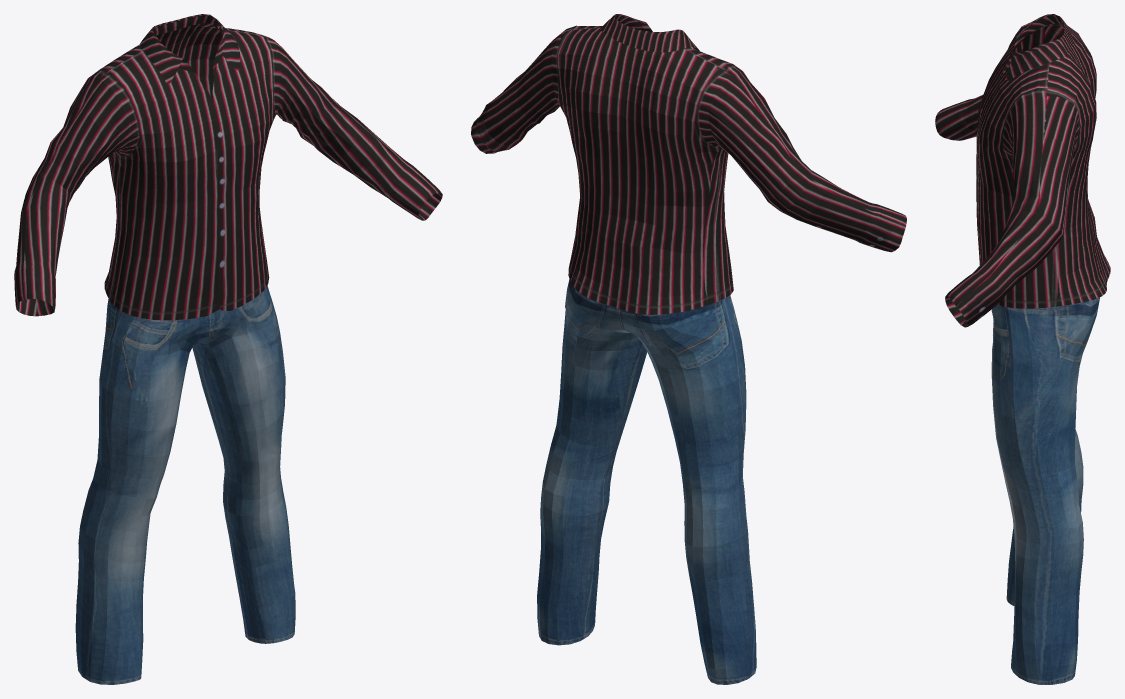
Rendered from garment.glb.
The picture shows the model from 3 angles, left to right: view 1: azimuth 30°, elevation 25°; view 2: azimuth 150°, elevation 25°; view 3: azimuth 270°, elevation 25°; orthographic projection. The views are drawn at different scales.
Parts seen in each view (by area): view 1: garment; view 2: garment; view 3: garment.
Boxes of the visible parts, <box> form: garment: <box>14,14,442,684</box>; garment: <box>471,14,906,684</box>; garment: <box>935,14,1110,684</box>.
Bounding box in the file's own units: 10.38 × 14.68 × 3.82.
1 material, 1 textured.
